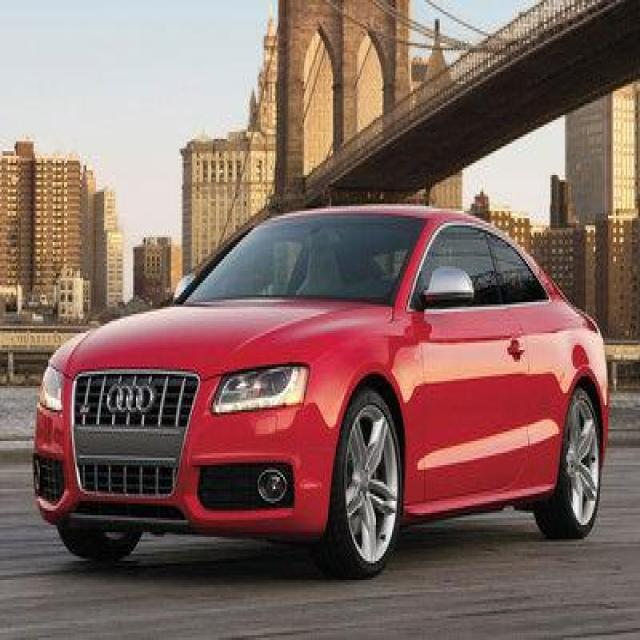Car: (19, 136, 616, 554)
